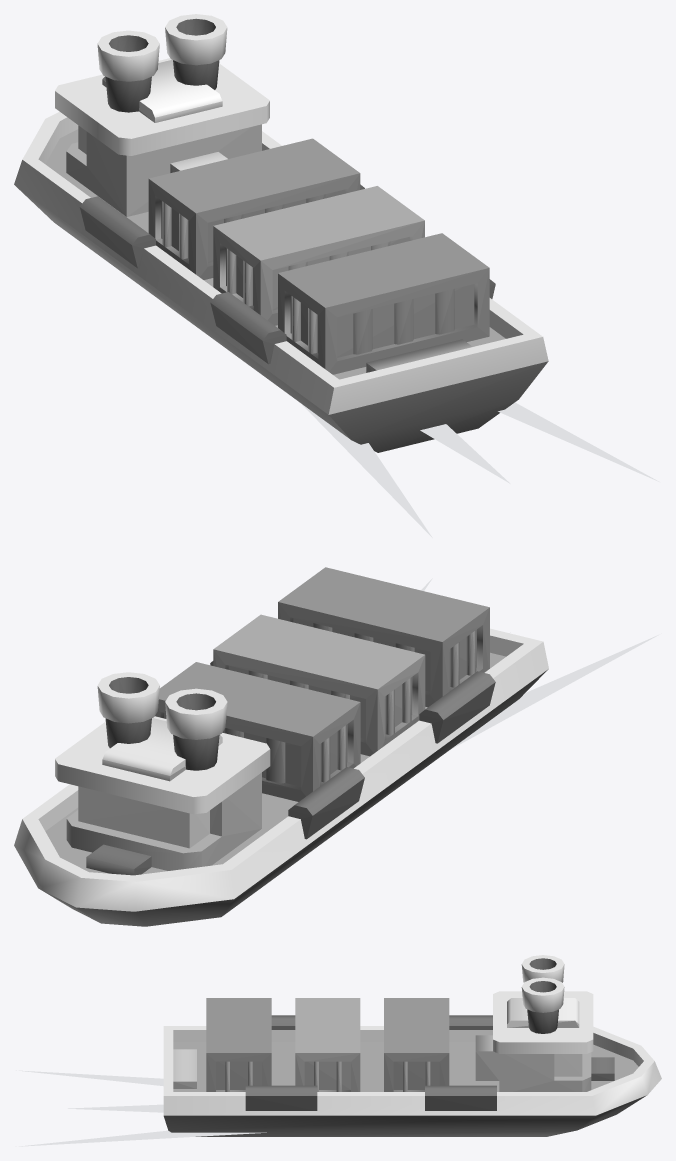
File: hub_hauler.glb
3 views of the same model, one above another, from view 1: azimuth 30°, elevation 25°; view 2: azimuth 150°, elevation 25°; view 3: azimuth 270°, elevation 25° (orthographic). The views are drawn at different scales.
Visible parts, largest first — view 1: Body, Wake; view 2: Body, Wake; view 3: Body, Wake.
Part boxes in pixels (bbox=[...]): Body: bbox=[14, 14, 548, 452]; Wake: bbox=[301, 402, 659, 537]; Body: bbox=[14, 567, 548, 926]; Wake: bbox=[421, 578, 661, 749]; Body: bbox=[163, 955, 661, 1136]; Wake: bbox=[15, 1070, 266, 1146].
Bounding box in the file's own units: 11.14 × 9.61 × 39.
Materials: 3 (1 with a texture image).
